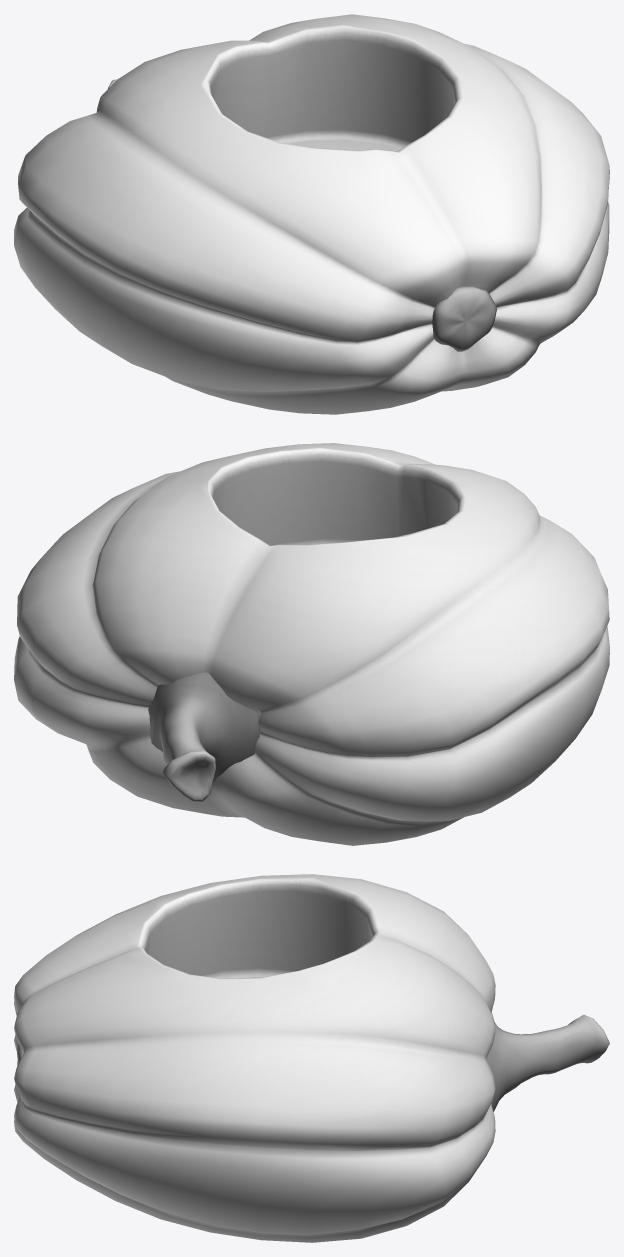
The model's file is Pin_Pumpkin_0.fbx.
3 renders of one model, top to bottom at view 1: azimuth 30°, elevation 25°; view 2: azimuth 150°, elevation 25°; view 3: azimuth 270°, elevation 25°, orthographic. The views are drawn at different scales.
Visible parts, largest first — view 1: Pin_Pumpkin; view 2: Pin_Pumpkin; view 3: Pin_Pumpkin.
Boxes of the visible parts, x1,y1,x2,y2 form: Pin_Pumpkin: (14, 14, 609, 414); Pin_Pumpkin: (14, 443, 609, 845); Pin_Pumpkin: (14, 874, 609, 1242).
Bounding box in the file's own units: 0.6843 × 0.3807 × 0.7505.
Materials: 2 (2 with a texture image).
